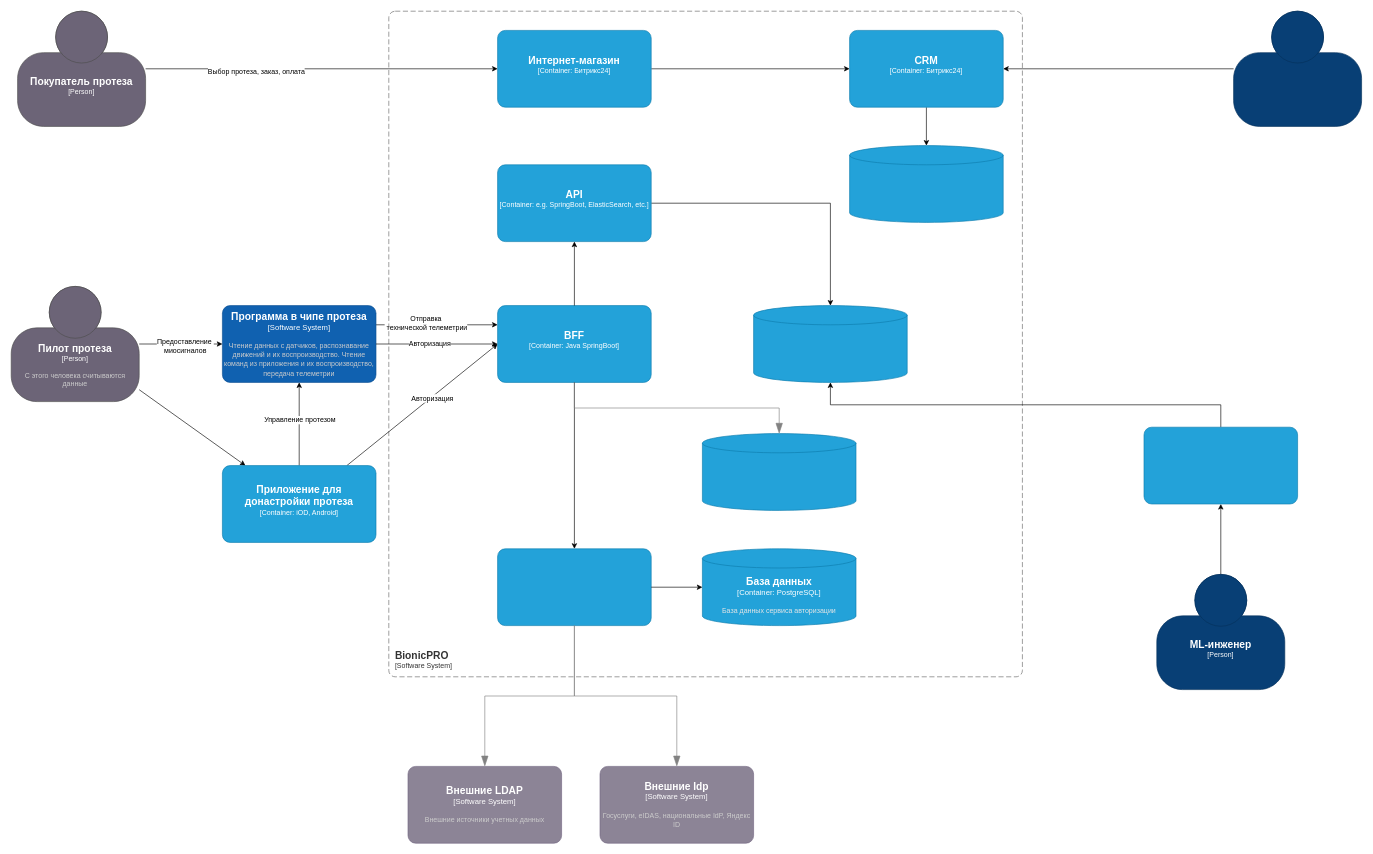
This 1373x854 diagram has some shape labels left out. The shapes that lost their labels are listed below. From the top down, each one's box as (x1, y1, x2, y2) in pixels, then its label:
(1233, 11, 1362, 126): Оператор производства [Person]
(849, 145, 1003, 222): CRM DB [Container: e.g. Oracle Database 12]
(753, 305, 907, 382): База данных [Container: PostgreSQL]
(702, 433, 856, 510): Хранилище сессий [Container: Redis]
(1143, 427, 1298, 504): cli tool [Container: e.g. SpringBoot, ElasticSearch, etc.]
(497, 548, 651, 626): Сервис авторизации [Container: Keycloak]
